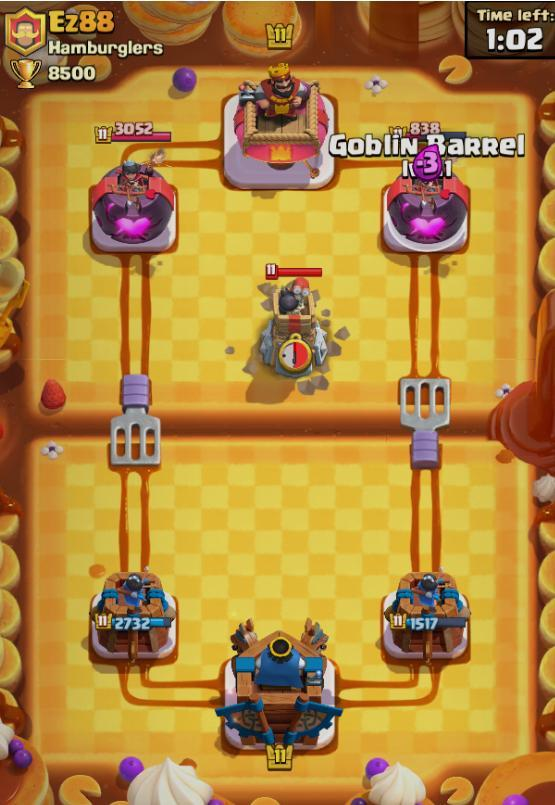EBombertower: (259, 269, 326, 376)
EKingTower: (223, 64, 334, 189)
EnemyPrincessTower: (89, 160, 175, 253), (382, 175, 469, 253)
OwnKingTower: (216, 619, 341, 750)
OwnPrincessTower: (89, 569, 176, 662), (382, 572, 469, 663)
